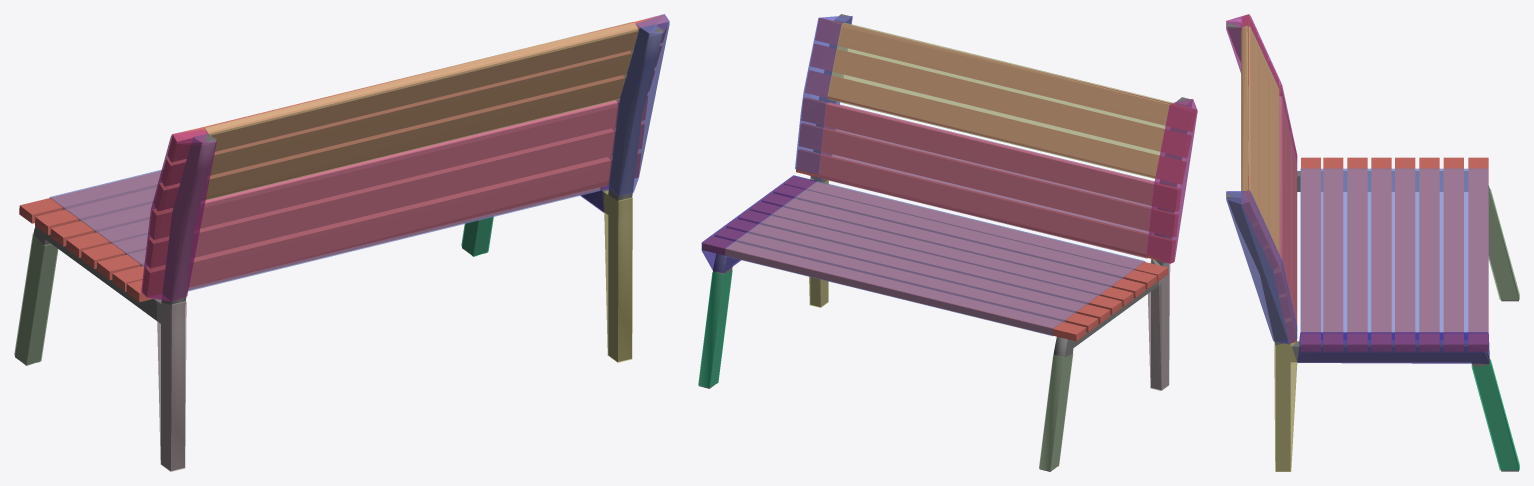
The model's file is Bench-WCH.fbx.
The picture shows the model from 3 angles, left to right: view 1: azimuth 30°, elevation 25°; view 2: azimuth 150°, elevation 25°; view 3: azimuth 270°, elevation 25°; orthographic projection. The views are drawn at different scales.
Visible parts, largest first — view 1: Bench_GM, Shape_IndexedFaceSet.004, Bench, Shape_IndexedFaceSet.005, Shape_IndexedFaceSet.003, Shape_IndexedFaceSet.006, Shape_IndexedFaceSet.009, Shape_IndexedFaceSet.002, Shape_IndexedFaceSet.008, Shape_IndexedFaceSet, Shape_IndexedFaceSet.001; view 2: Bench_GM, Shape_IndexedFaceSet.006, Shape_IndexedFaceSet.005, Shape_IndexedFaceSet.004, Bench, Shape_IndexedFaceSet.003, Shape_IndexedFaceSet.009, Shape_IndexedFaceSet.007, Shape_IndexedFaceSet.001, Shape_IndexedFaceSet, Shape_IndexedFaceSet.002, Shape_IndexedFaceSet.008; view 3: Bench_GM, Shape_IndexedFaceSet.006, Shape_IndexedFaceSet.005, Shape_IndexedFaceSet.007, Shape_IndexedFaceSet.009, Bench, Shape_IndexedFaceSet.004, Shape_IndexedFaceSet.008, Shape_IndexedFaceSet.001, Shape_IndexedFaceSet, Shape_IndexedFaceSet.003.
Boxes of the visible parts, <box> form: Bench_GM: <box>15,15,668,470</box>; Shape_IndexedFaceSet.004: <box>189,100,617,287</box>; Bench: <box>15,22,668,464</box>; Shape_IndexedFaceSet.005: <box>203,21,638,200</box>; Shape_IndexedFaceSet.003: <box>141,129,216,301</box>; Shape_IndexedFaceSet.006: <box>49,169,600,291</box>; Shape_IndexedFaceSet.009: <box>607,14,669,196</box>; Shape_IndexedFaceSet.002: <box>156,299,186,471</box>; Shape_IndexedFaceSet.008: <box>604,190,632,362</box>; Shape_IndexedFaceSet: <box>14,233,58,365</box>; Shape_IndexedFaceSet.001: <box>461,216,493,256</box>; Bench_GM: <box>699,14,1193,471</box>; Shape_IndexedFaceSet.006: <box>725,181,1145,336</box>; Shape_IndexedFaceSet.005: <box>827,23,1173,178</box>; Shape_IndexedFaceSet.004: <box>818,102,1157,258</box>; Bench: <box>698,20,1196,459</box>; Shape_IndexedFaceSet.003: <box>1146,99,1197,263</box>; Shape_IndexedFaceSet.009: <box>795,16,852,180</box>; Shape_IndexedFaceSet.007: <box>701,175,816,272</box>; Shape_IndexedFaceSet.001: <box>698,270,732,387</box>; Shape_IndexedFaceSet: <box>1039,354,1073,470</box>; Shape_IndexedFaceSet.002: <box>1147,259,1170,390</box>; Shape_IndexedFaceSet.008: <box>809,178,828,307</box>; Bench_GM: <box>1226,14,1518,471</box>; Shape_IndexedFaceSet.006: <box>1300,168,1488,339</box>; Shape_IndexedFaceSet.005: <box>1241,26,1279,253</box>; Shape_IndexedFaceSet.007: <box>1297,332,1489,363</box>; Shape_IndexedFaceSet.009: <box>1226,190,1297,344</box>; Bench: <box>1227,51,1518,471</box>; Shape_IndexedFaceSet.004: <box>1279,96,1297,325</box>; Shape_IndexedFaceSet.008: <box>1274,342,1297,471</box>; Shape_IndexedFaceSet.001: <box>1471,359,1519,470</box>; Shape_IndexedFaceSet: <box>1488,189,1519,299</box>; Shape_IndexedFaceSet.003: <box>1226,14,1297,162</box>.
Size of what is drawn, in the model's own units: 197 by 135 by 130.
